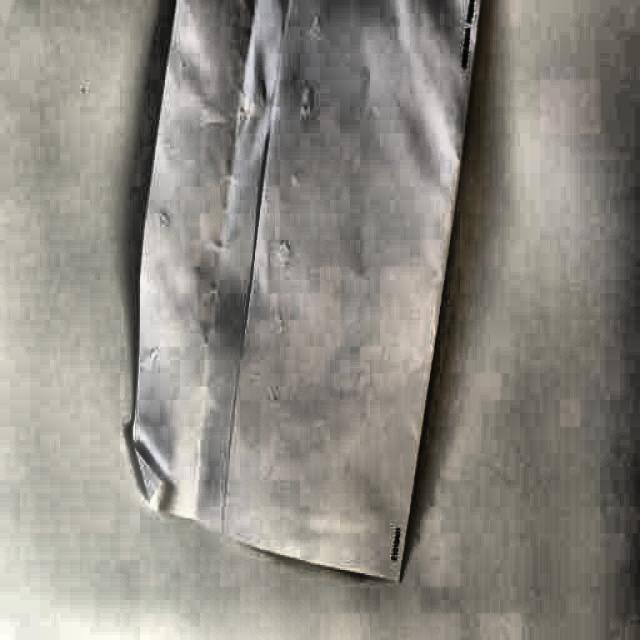paper: (123, 3, 478, 588)
